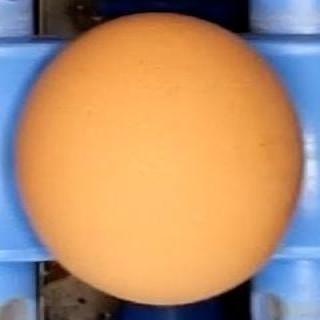Telur: (5, 6, 312, 311)
